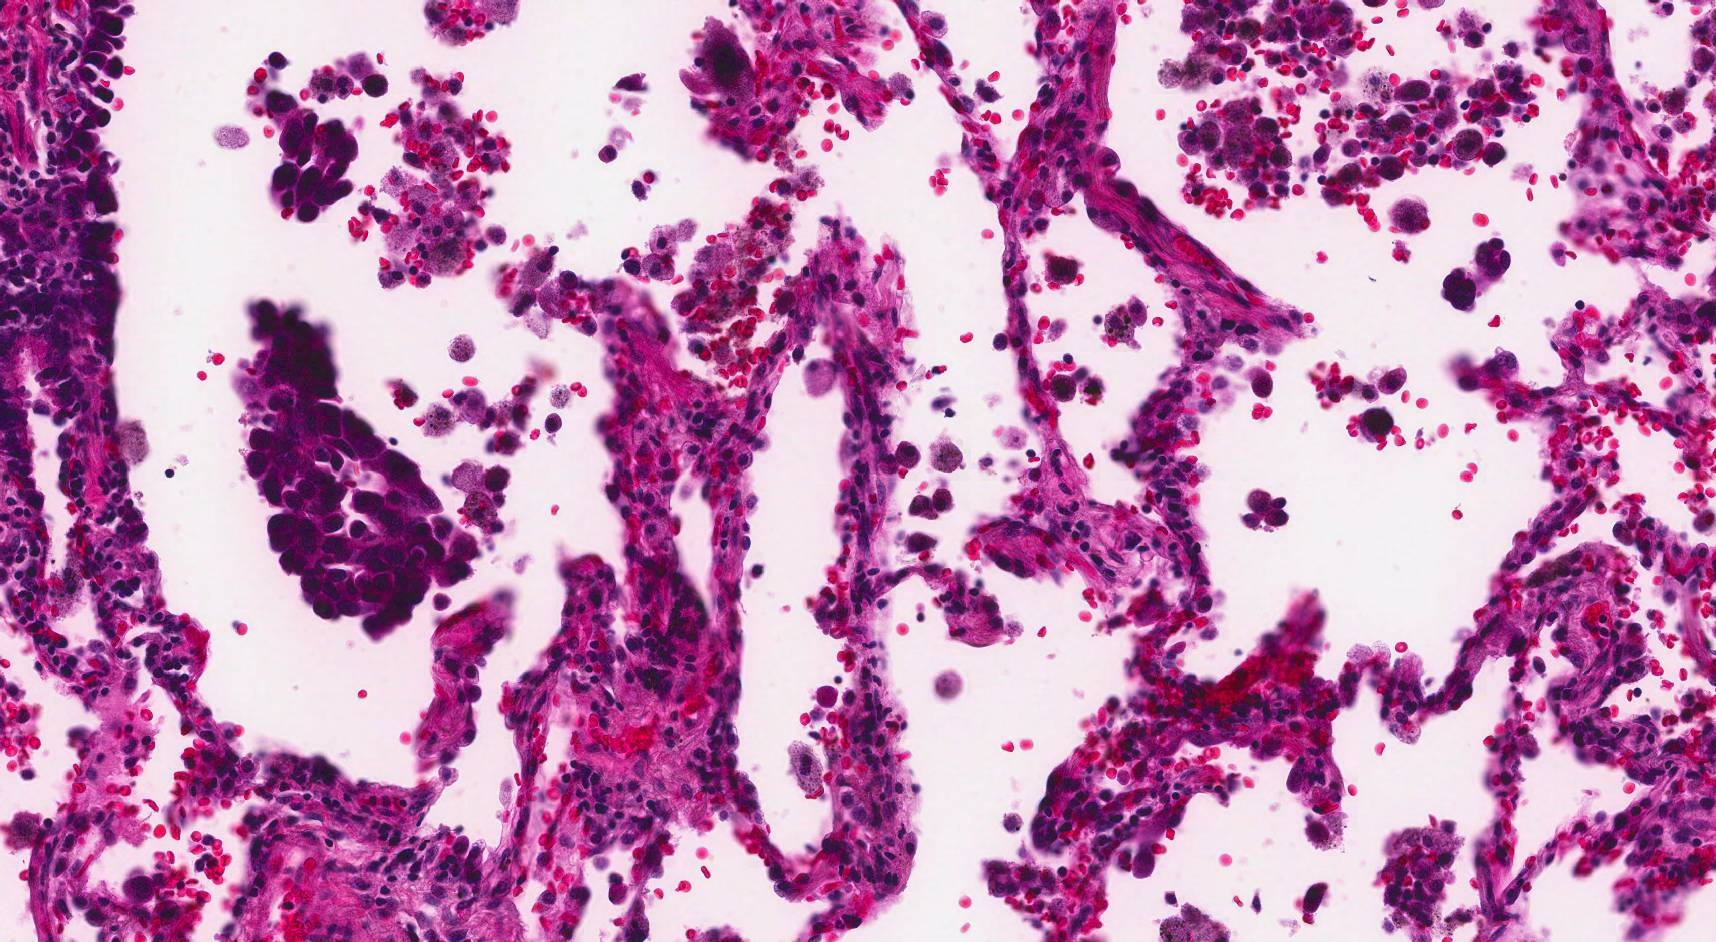stas: (233, 302, 476, 641), (261, 94, 362, 228)
